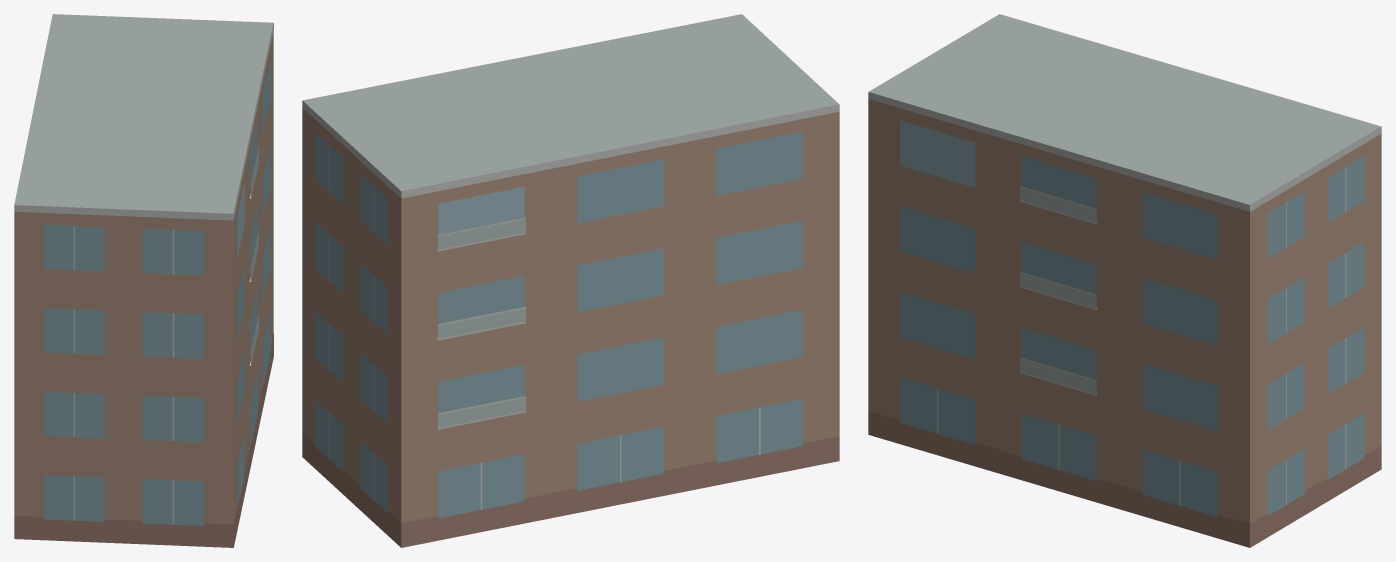
File: survey-upis-32724799.glb
The picture shows the model from 3 angles, left to right: view 1: azimuth 30°, elevation 25°; view 2: azimuth 150°, elevation 25°; view 3: azimuth 270°, elevation 25°; orthographic projection. The views are drawn at different scales.
Parts seen in each view (by area): view 1: survey-upis-32724799.tmp; view 2: survey-upis-32724799.tmp; view 3: survey-upis-32724799.tmp.
Boxes of the visible parts, bbox=[...] form: survey-upis-32724799.tmp: bbox=[14, 14, 273, 547]; survey-upis-32724799.tmp: bbox=[302, 14, 839, 547]; survey-upis-32724799.tmp: bbox=[868, 14, 1381, 547].
Size of the model in its own units: 14.47 by 12.1 by 16.43.
